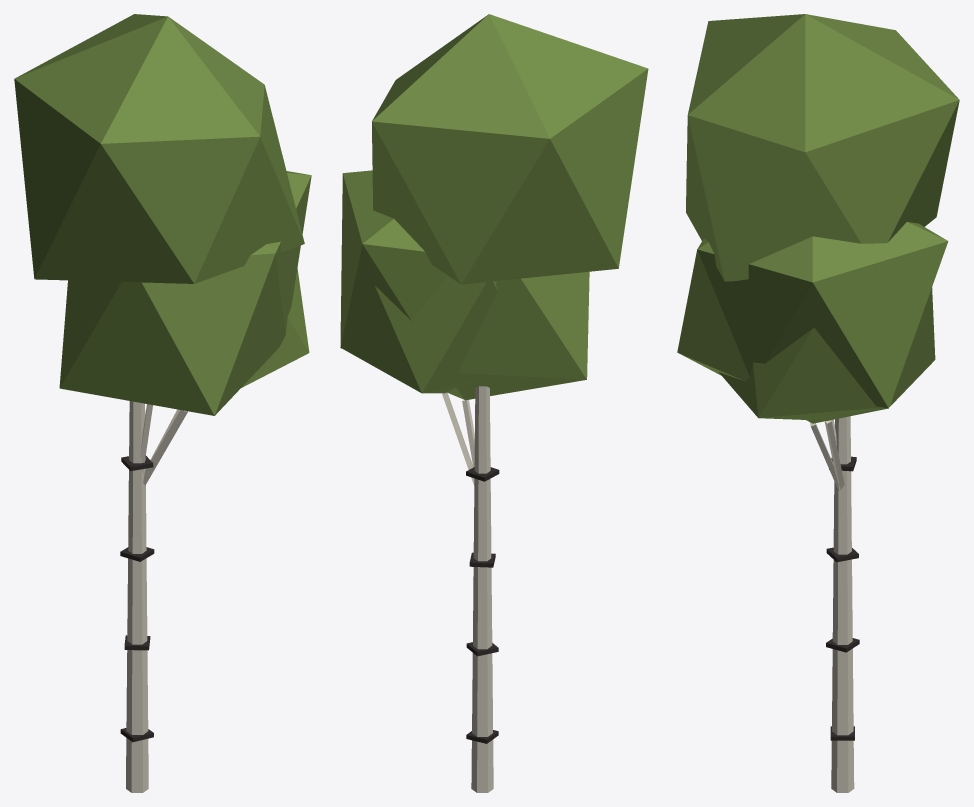
Rendered from birch_1.glb.
3 renders of one model, left to right at view 1: azimuth 30°, elevation 25°; view 2: azimuth 150°, elevation 25°; view 3: azimuth 270°, elevation 25°, orthographic. The views are drawn at different scales.
Parts seen in each view (by area): view 1: birch_1; view 2: birch_1; view 3: birch_1.
Boxes of the visible parts, x1,y1,x2,y2 form: birch_1: (14, 14, 311, 792); birch_1: (340, 14, 648, 792); birch_1: (677, 14, 959, 792).
Bounding box in the file's own units: 4.24 × 11.28 × 3.7.
